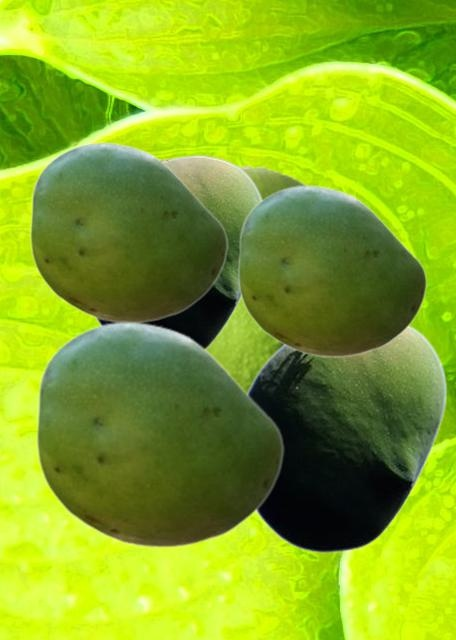green_mango: (35, 320, 283, 548), (246, 325, 447, 552), (29, 141, 227, 322), (93, 154, 264, 348), (237, 184, 426, 357), (208, 164, 312, 388)
